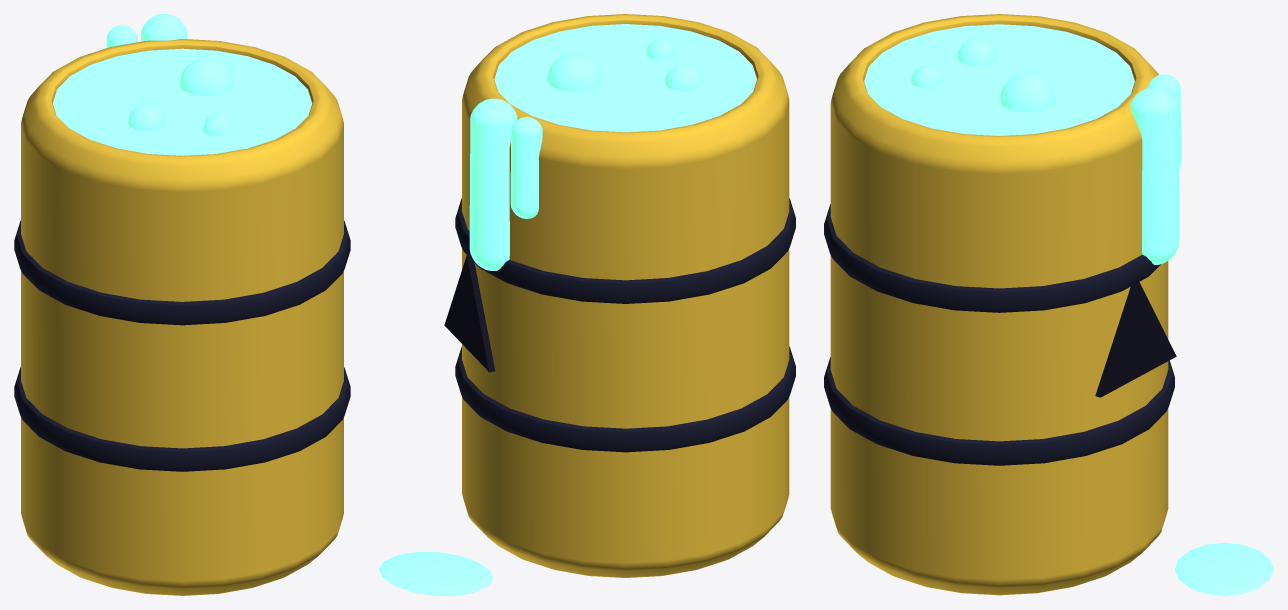
The model's file is barrel.glb.
The picture shows the model from 3 angles, left to right: view 1: azimuth 30°, elevation 25°; view 2: azimuth 150°, elevation 25°; view 3: azimuth 270°, elevation 25°; orthographic projection. The views are drawn at different scales.
Parts seen in each view (by area): view 1: Body; view 2: Body; view 3: Body.
Boxes of the visible parts, x1=… form: Body: x1=14, y1=14, x2=350, y2=595; Body: x1=379, y1=14, x2=795, y2=595; Body: x1=824, y1=14, x2=1273, y2=595.
Size of the model in its own units: 0.624 by 0.94 by 0.8.
